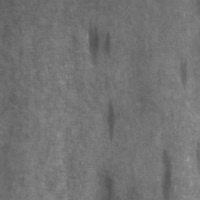inclusion: (85, 18, 116, 66), (159, 147, 176, 200), (102, 98, 120, 144), (176, 54, 192, 93)
